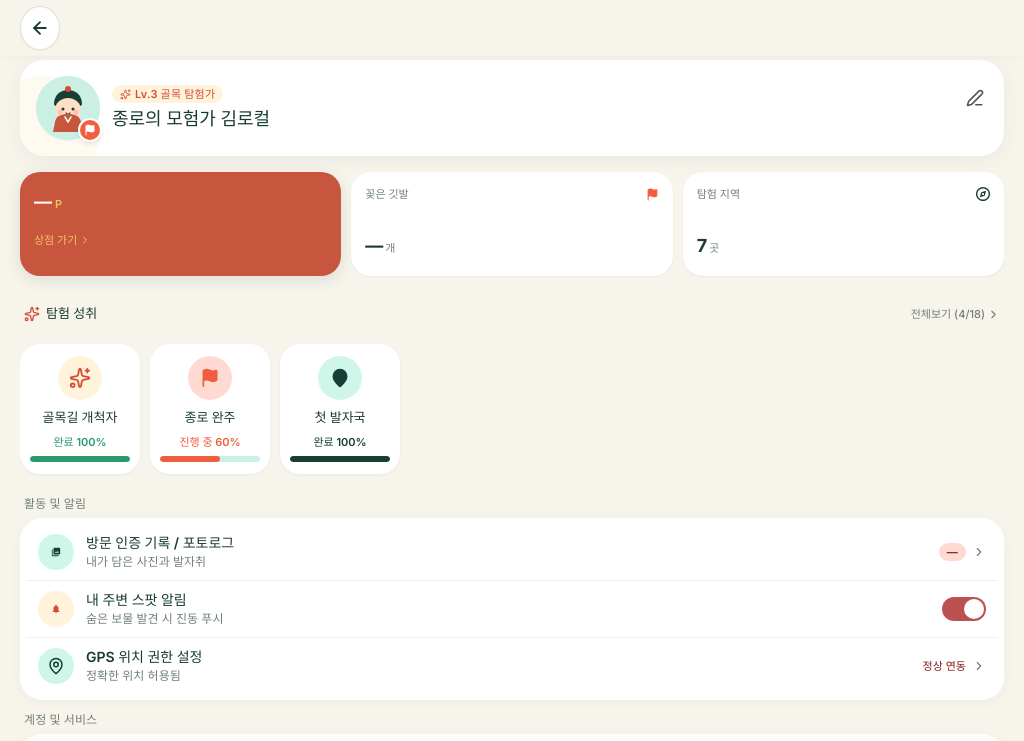
ProfilePage › shows toast for unimplemented menus and profile edit button
This screenshot has width=1024, height=741.
Step 1. Click the button named "프로필 편집" → (975, 98), box [962, 76, 988, 120]
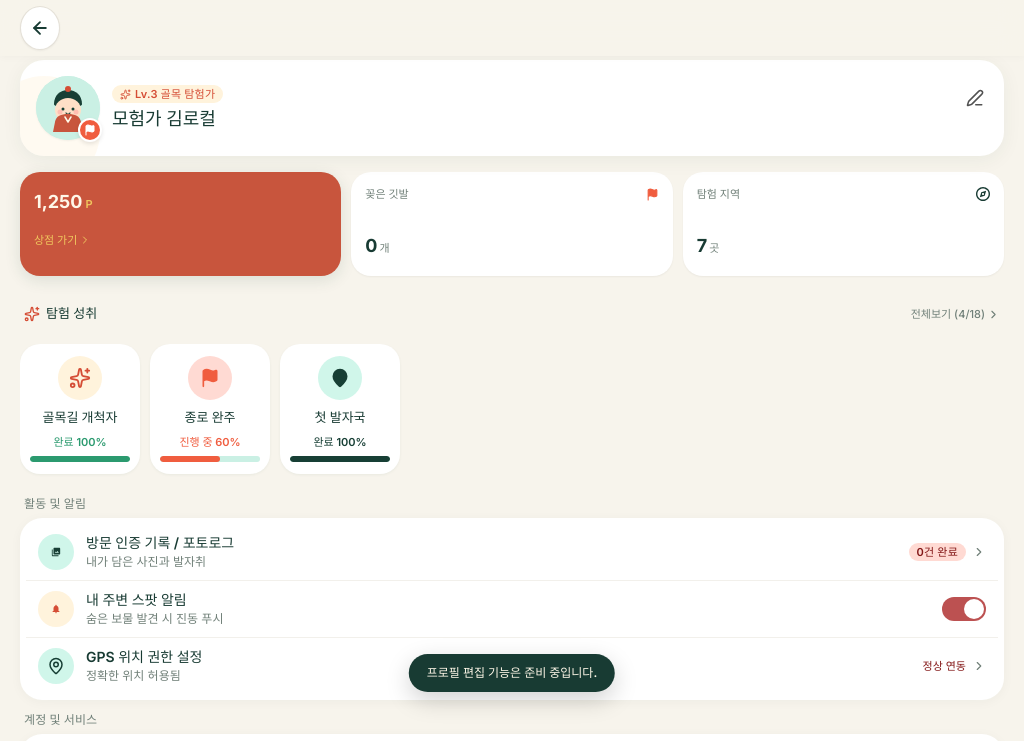
Now the message reads "프로필 편집 기능은 준비 중입니다.", box [427, 665, 597, 680]
Step 2. Click the button "GPS 위치 권한 설정 정확한 위치 허용됨 정상 연동" → (56, 666), box [26, 637, 998, 694]
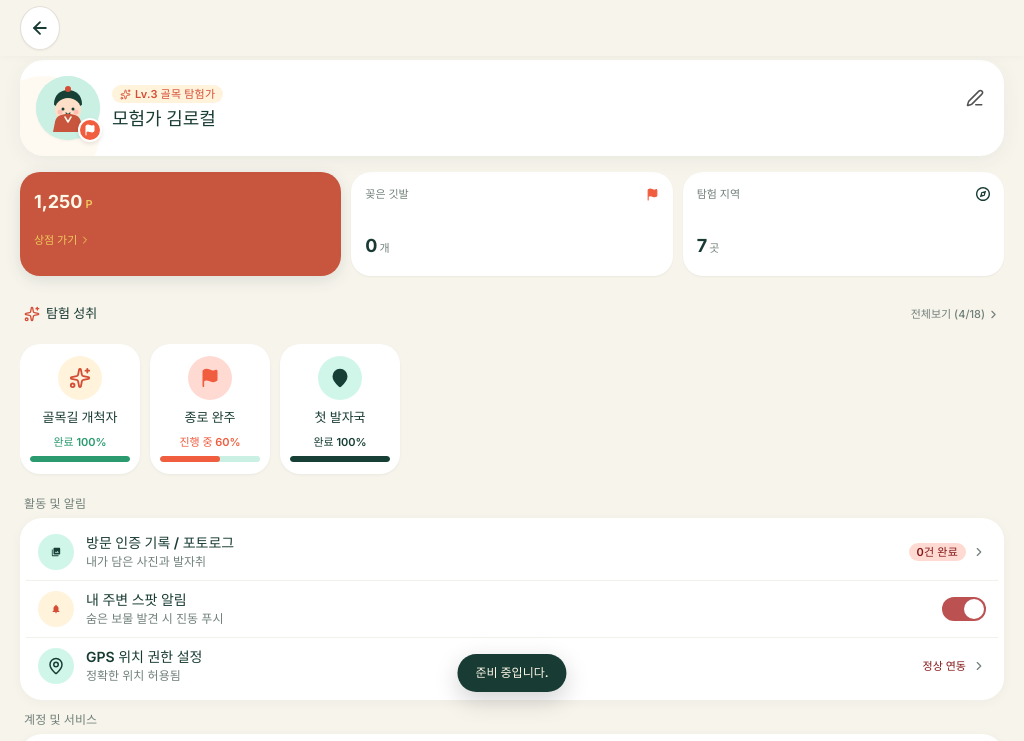
Now the message reads "준비 중입니다.", box [476, 665, 549, 680]
